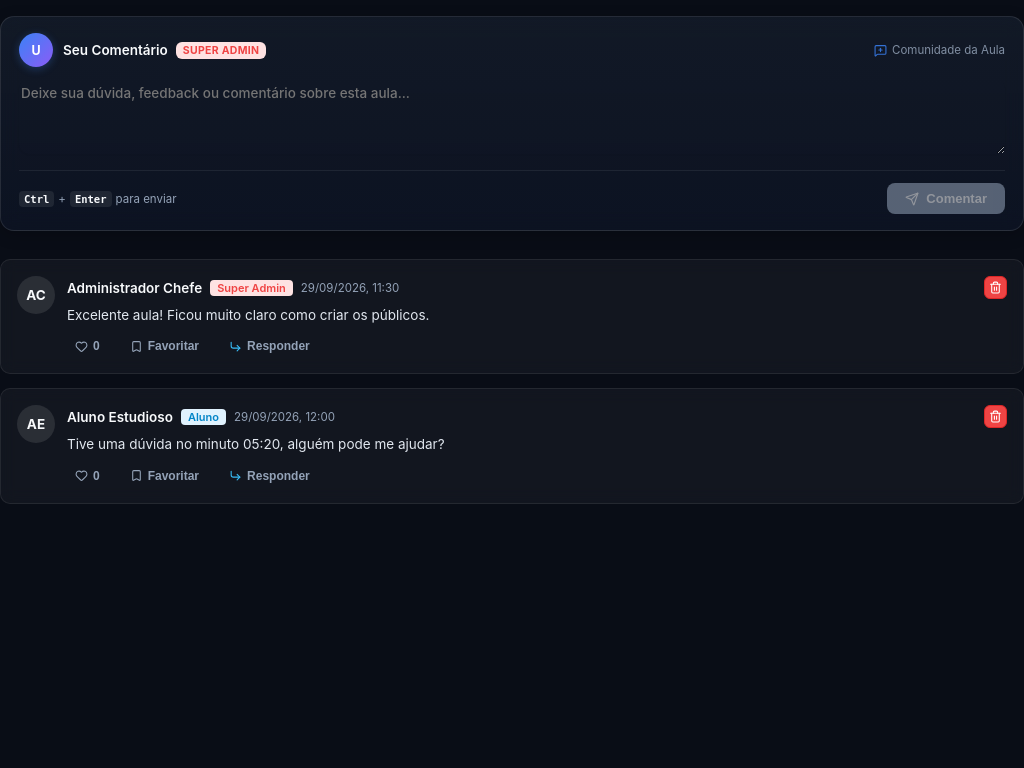
Scenario: LessonComments Component › allows user to reply to an existing comment creating a thread
Abrir formulário de resposta no comentário 1
Click the button with test id "reply-btn-1". click: (269, 346)
box: [221,335,318,357]
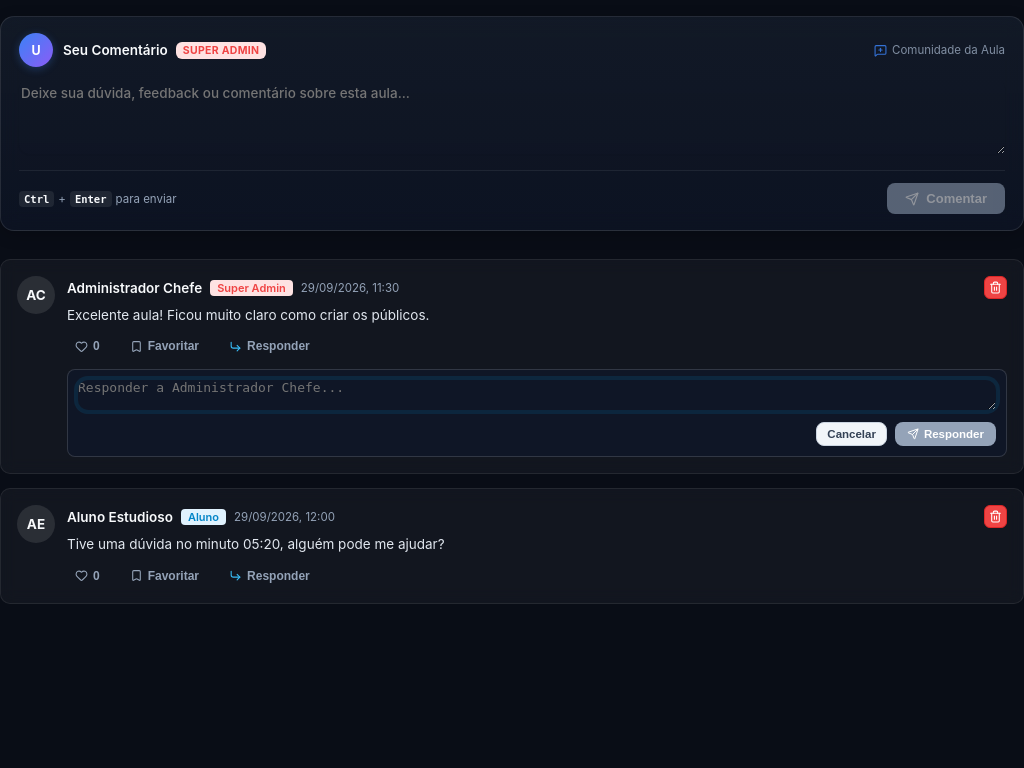
Check: the form with test id "reply-form-1" is shown, box [67,369,1007,457]
Digitar a resposta
Type "Com certeza! Vamos agendar uma mentoria." into the text box with test id "reply-input-1". click: (537, 395)
box: [78,380,996,410]
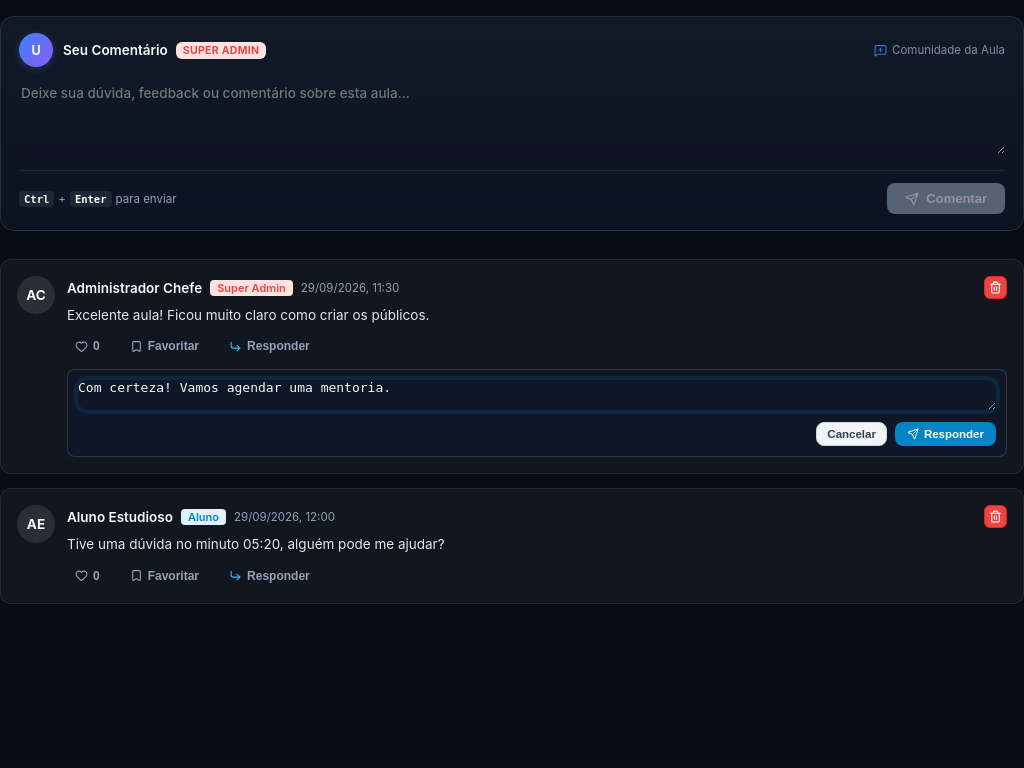
Enviar resposta
Click the button with test id "submit-reply-btn-1". click: (945, 434)
box: [895,422,996,446]
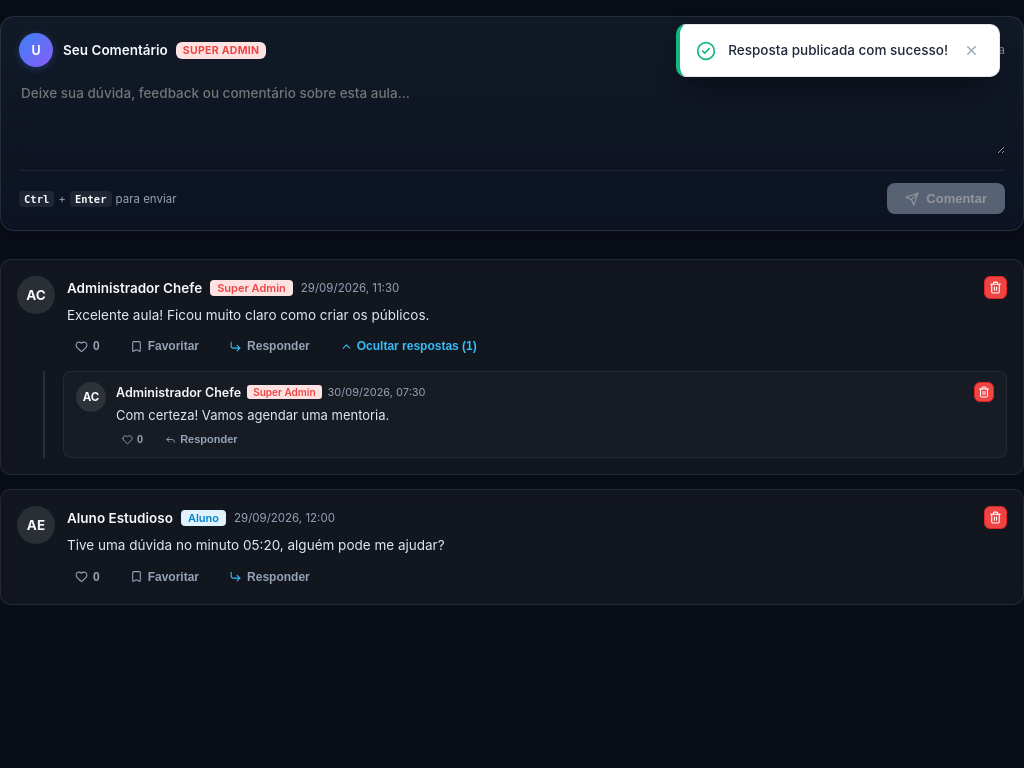
Check: the text "Com certeza! Vamos agendar uma mentoria." is shown, box [116,407,389,423]
Check: the text "Ocultar respostas (1)" is shown, box [357,339,477,353]
